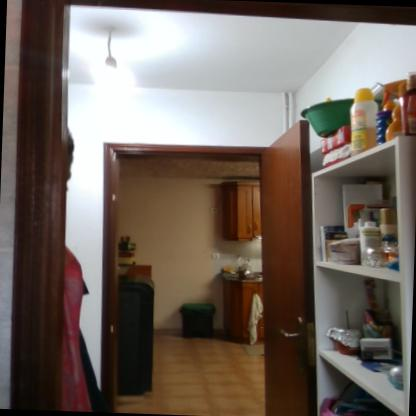open: (90, 103, 318, 416)
